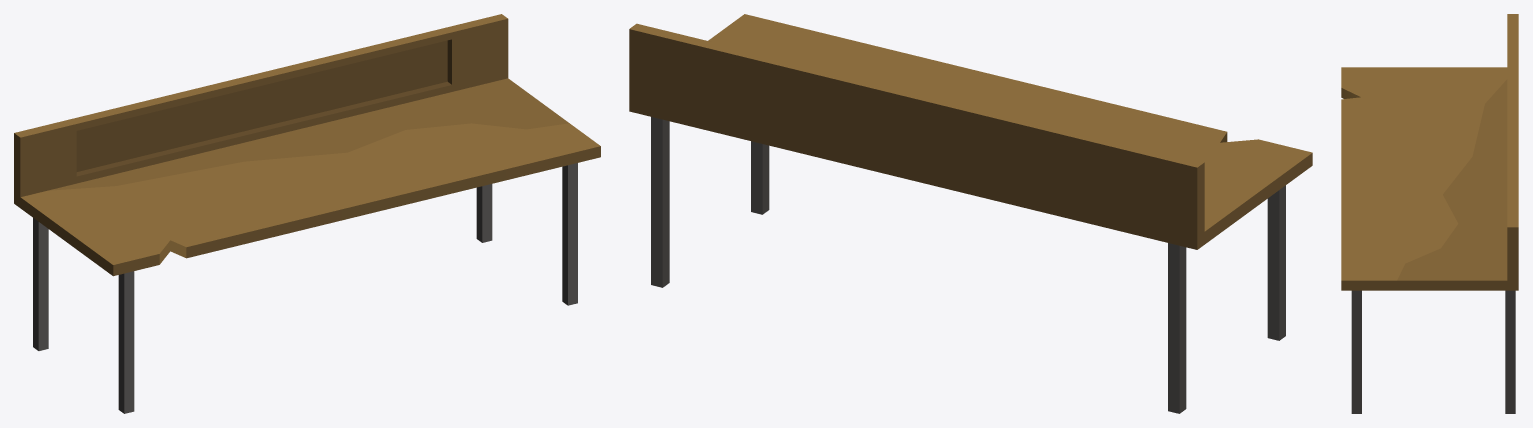
File: AI_Prop_Desk_Straight.fbx
3 views of the same model, side by side, from view 1: azimuth 30°, elevation 25°; view 2: azimuth 150°, elevation 25°; view 3: azimuth 270°, elevation 25° (orthographic). The views are drawn at different scales.
Visible parts, largest first — view 1: AI_Prop_Desk_Straight; view 2: AI_Prop_Desk_Straight; view 3: AI_Prop_Desk_Straight.
Part boxes in pixels (x1,y1,x2,y2): AI_Prop_Desk_Straight: (14,14,600,413); AI_Prop_Desk_Straight: (629,14,1312,413); AI_Prop_Desk_Straight: (1341,14,1518,413).
Size of the model in its own units: 5.11 by 2.17 by 1.8.
